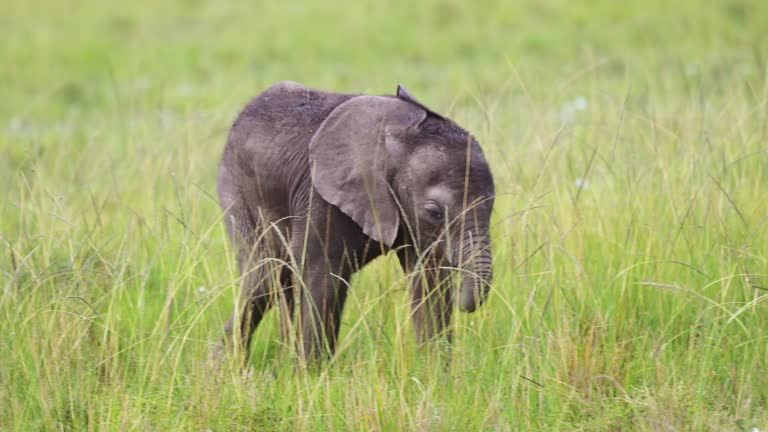elephant: (161, 62, 564, 395)
